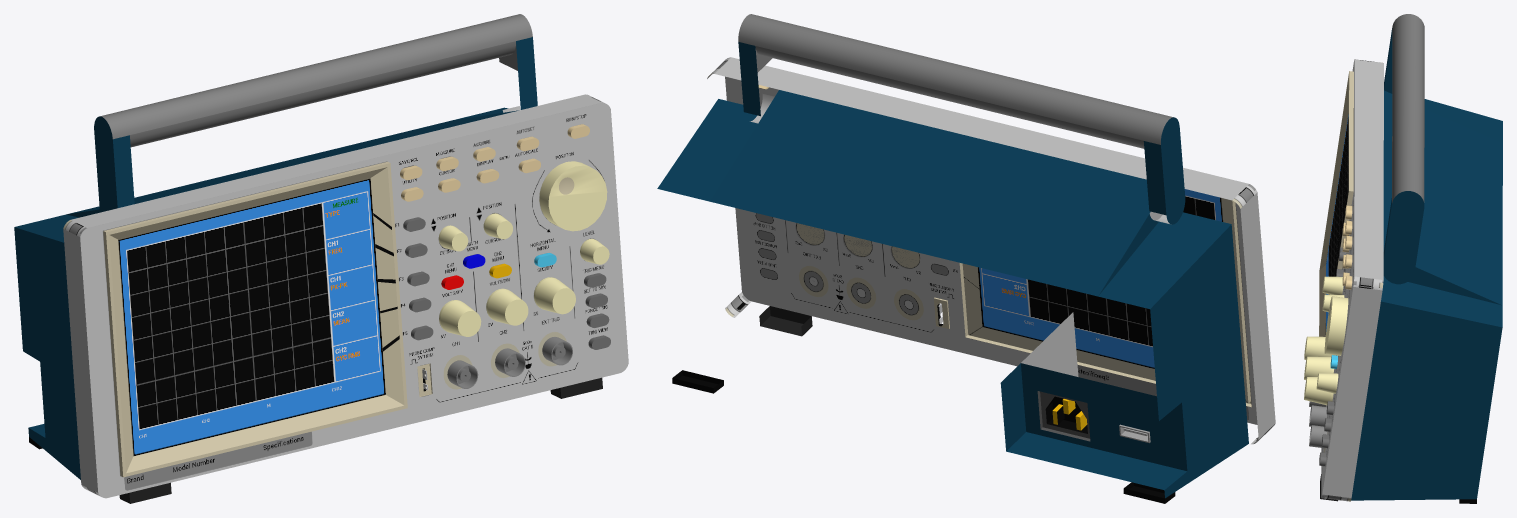
Rendered from asset.glb.
The picture shows the model from 3 angles, left to right: view 1: azimuth 30°, elevation 25°; view 2: azimuth 150°, elevation 25°; view 3: azimuth 270°, elevation 25°; orthographic projection. The views are drawn at different scales.
Parts seen in each view (by area): view 1: object 2, object 8, object 1, Group#8 (×3), Group#9 (×3); view 2: object 2, object 8; view 3: object 2, object 8, Group#8 (×5), object 1, Group#9 (×2).
Boxes of the visible parts, <box> form: object 2: <box>14,67,628,503</box>; object 8: <box>94,14,534,169</box>; object 1: <box>539,161,607,231</box>; Group#8 (×3): <box>439,277,575,336</box>; Group#9 (×3): <box>447,337,572,388</box>; object 2: <box>657,57,1275,503</box>; object 8: <box>738,14,1181,171</box>; object 2: <box>1319,52,1502,503</box>; object 8: <box>1388,14,1424,231</box>; Group#8 (×5): <box>1304,276,1343,405</box>; object 1: <box>1324,296,1348,355</box>; Group#9 (×2): <box>1309,405,1327,448</box>.
Size of the model in its own units: 4.05 by 2.52 by 1.52.
Materials: 18 (1 with a texture image).
